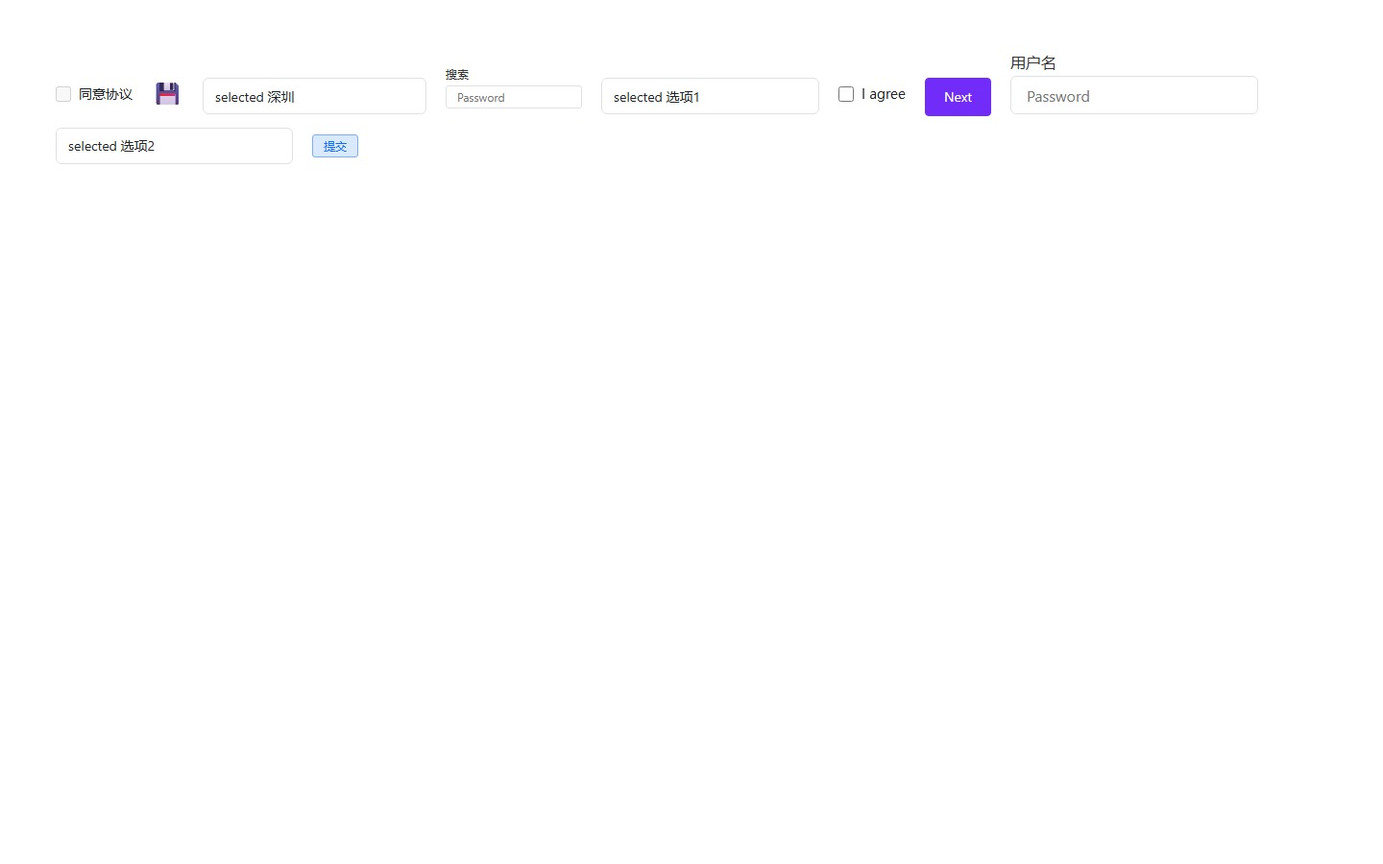button: (925, 77, 991, 116), (312, 134, 358, 157)
checkbox: (838, 86, 854, 101), (56, 86, 71, 101)
icon: (79, 84, 133, 103), (861, 84, 906, 103), (152, 80, 183, 103)
input: (1010, 76, 1258, 114), (446, 85, 582, 108)
radio: (56, 84, 133, 103), (838, 84, 906, 103)
select: (56, 127, 293, 164), (203, 78, 426, 114), (601, 78, 819, 114)
